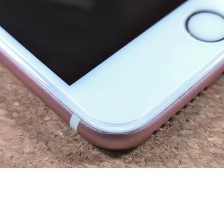phone: (0, 0, 224, 157)
